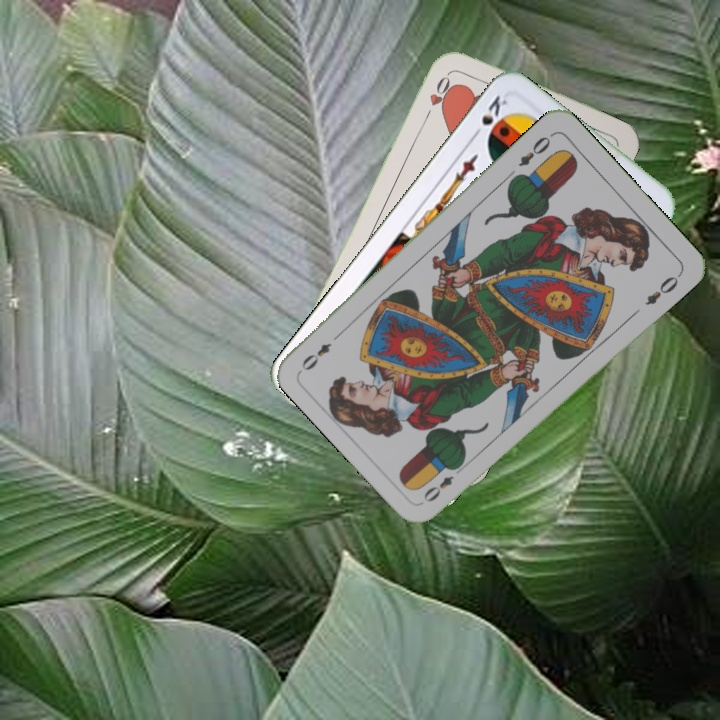EO: (419, 460, 466, 505), (514, 132, 554, 170)
HO: (421, 67, 456, 122)
SK: (467, 91, 510, 142)
